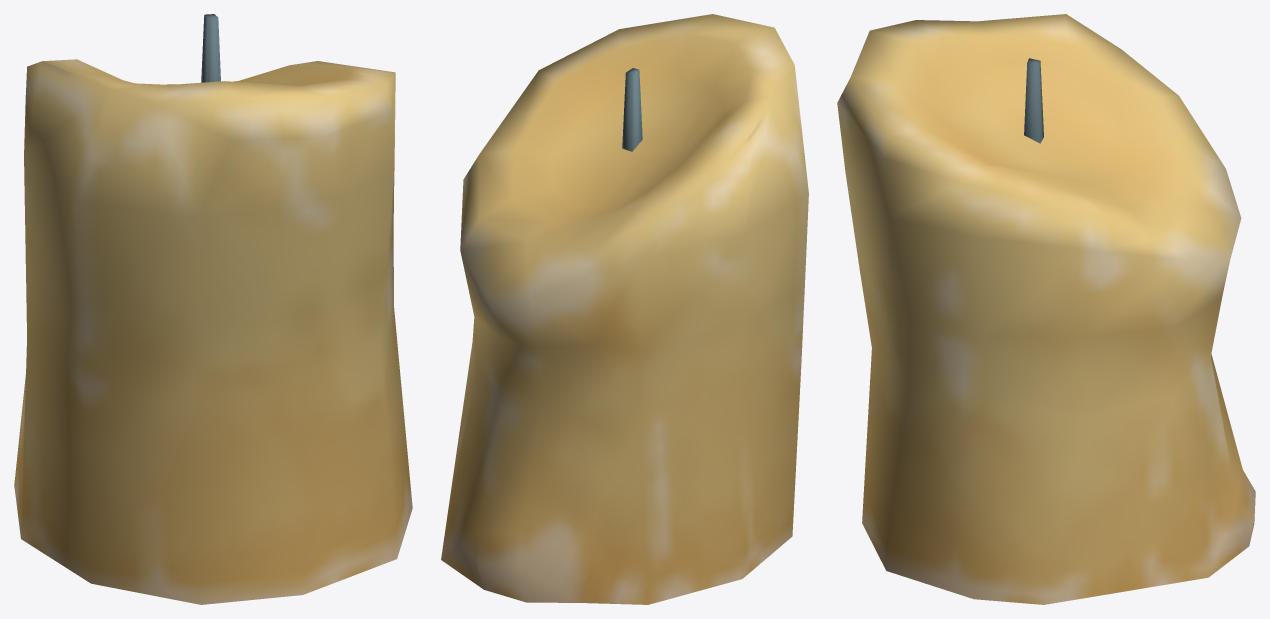
Rendered from Candle_1.gltf.
3 renders of one model, left to right at view 1: azimuth 30°, elevation 25°; view 2: azimuth 150°, elevation 25°; view 3: azimuth 270°, elevation 25°, orthographic. The views are drawn at different scales.
Parts seen in each view (by area): view 1: Candle_1; view 2: Candle_1; view 3: Candle_1.
Part boxes in pixels (bbox=[...]): Candle_1: bbox=[14, 14, 412, 604]; Candle_1: bbox=[441, 14, 808, 604]; Candle_1: bbox=[837, 14, 1255, 604].
Bounding box in the file's own units: 0.0939 × 0.132 × 0.1079.
Materials: 1 (1 with a texture image).
